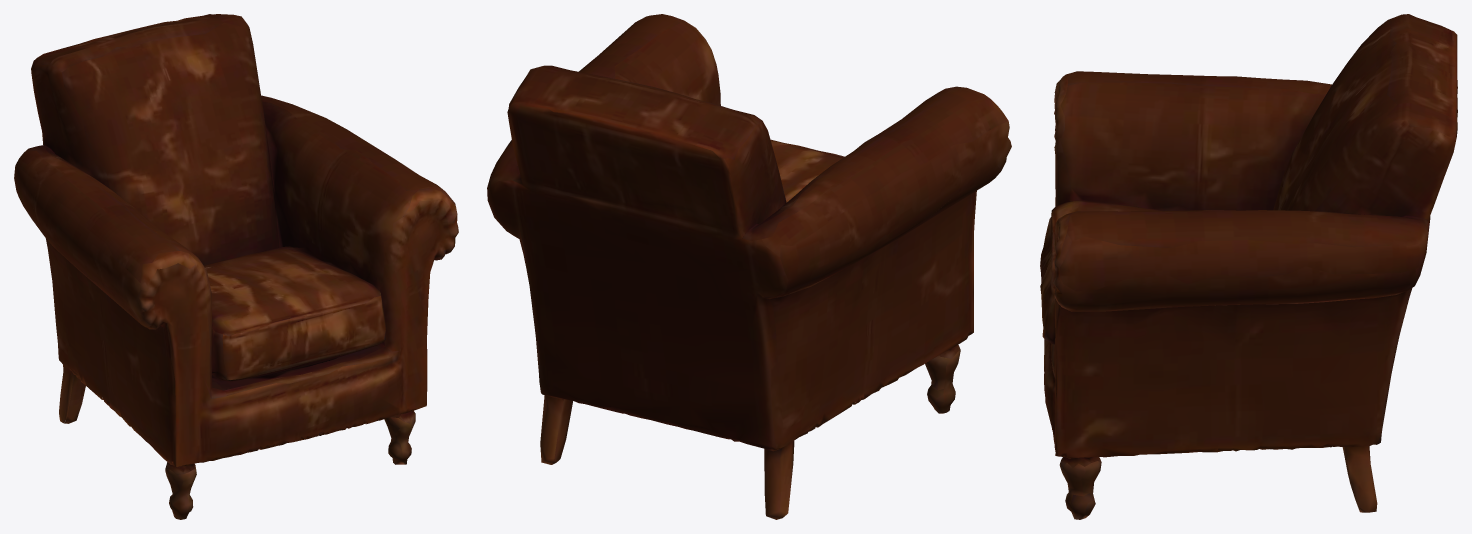
File: sillon_cuero.glb
3 views of the same model, side by side, from view 1: azimuth 30°, elevation 25°; view 2: azimuth 150°, elevation 25°; view 3: azimuth 270°, elevation 25° (orthographic). The views are drawn at different scales.
Visible parts, largest first — view 1: geometry_0; view 2: geometry_0; view 3: geometry_0.
Part boxes in pixels (x1,y1,x2,y2): geometry_0: (14, 14, 458, 519); geometry_0: (487, 14, 1011, 519); geometry_0: (1040, 14, 1457, 519).
Size of the model in its own units: 0.85 by 0.9 by 0.85.
1 material, 1 textured.
